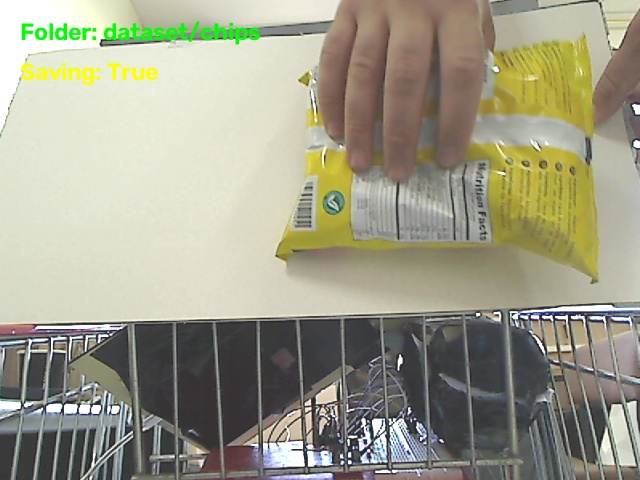chips: (277, 37, 598, 281)
